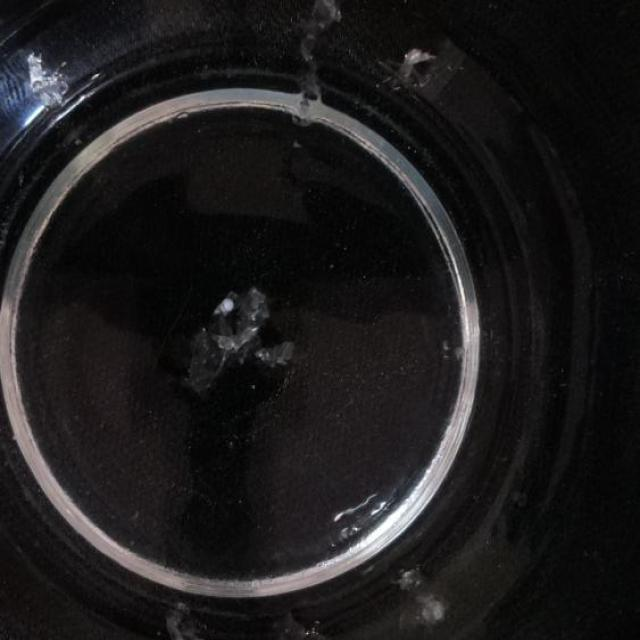fiber: (182, 282, 299, 398), (290, 0, 344, 132), (388, 558, 449, 635), (372, 44, 439, 102), (158, 596, 199, 640), (267, 613, 327, 640)
